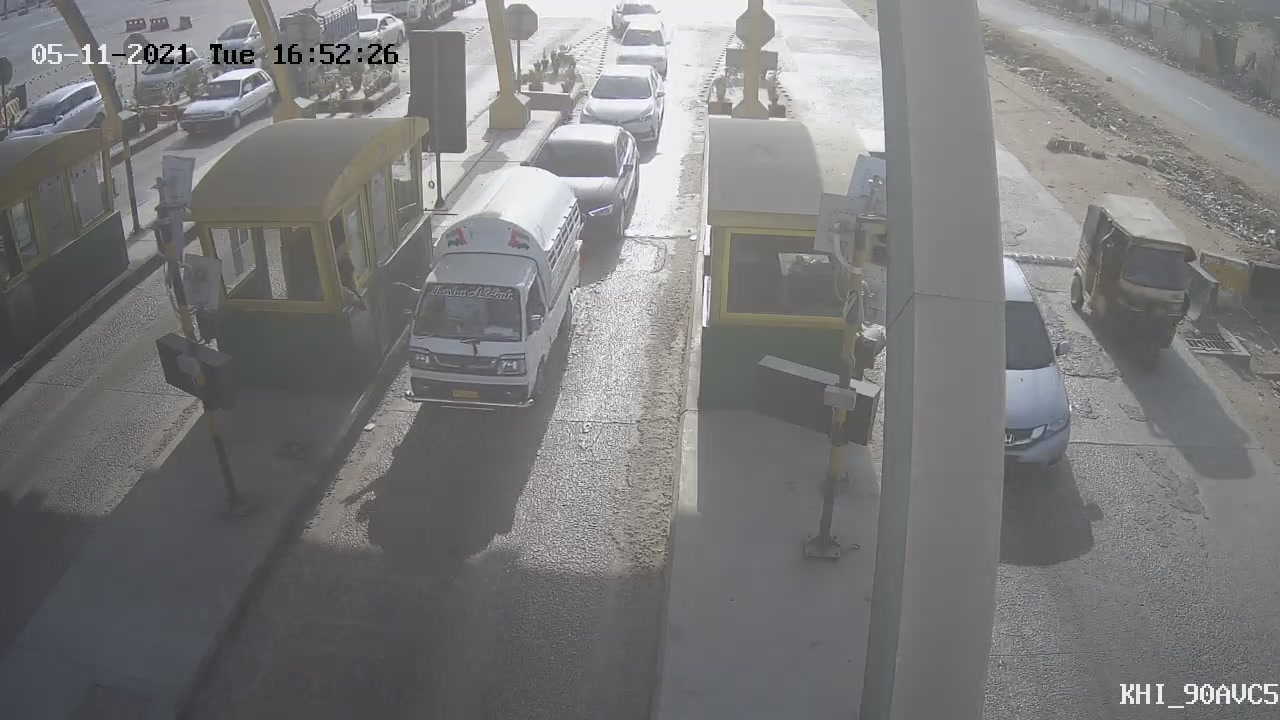F1: (391, 167, 589, 429), (564, 55, 677, 156)
